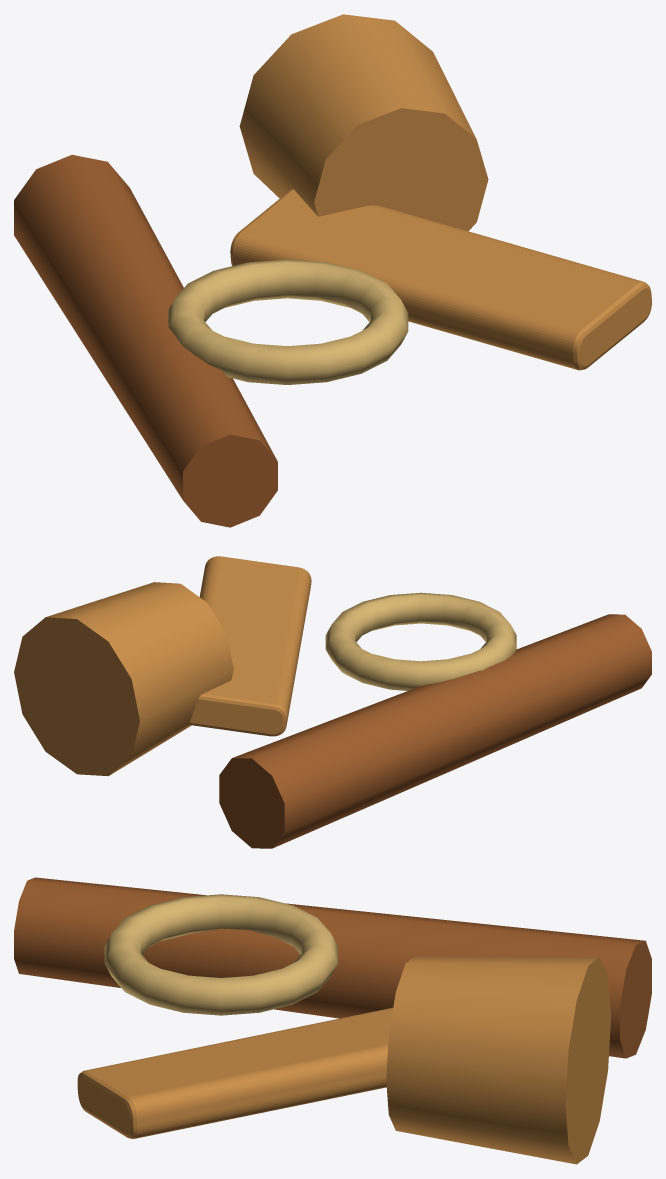
Rendered from floating-debris.glb.
3 renders of one model, top to bottom at view 1: azimuth 30°, elevation 25°; view 2: azimuth 150°, elevation 25°; view 3: azimuth 270°, elevation 25°, orthographic. The views are drawn at different scales.
Parts seen in each view (by area): view 1: FloatingDebris_RaftWoodLight_1, FloatingDebris_RaftWood_0, FloatingDebris_RopeFiber_2; view 2: FloatingDebris_RaftWoodLight_1, FloatingDebris_RaftWood_0, FloatingDebris_RopeFiber_2; view 3: FloatingDebris_RaftWoodLight_1, FloatingDebris_RaftWood_0, FloatingDebris_RopeFiber_2.
Part boxes in pixels (<box>): FloatingDebris_RaftWoodLight_1: <box>230,14,651,370</box>; FloatingDebris_RaftWood_0: <box>14,154,277,527</box>; FloatingDebris_RopeFiber_2: <box>167,259,408,384</box>; FloatingDebris_RaftWoodLight_1: <box>14,556,311,776</box>; FloatingDebris_RaftWood_0: <box>219,614,651,848</box>; FloatingDebris_RopeFiber_2: <box>325,592,516,690</box>; FloatingDebris_RaftWoodLight_1: <box>77,956,610,1164</box>; FloatingDebris_RaftWood_0: <box>14,877,651,1058</box>; FloatingDebris_RopeFiber_2: <box>104,894,337,1015</box>.
Size of the model in its own units: 1.08 by 0.41 by 1.16.
